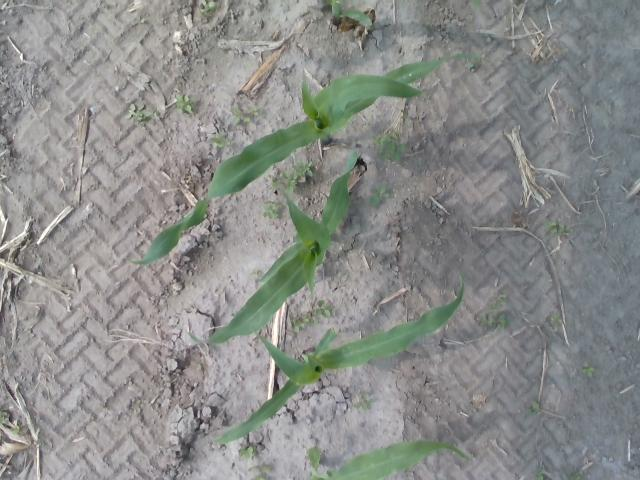Maize: (123, 54, 484, 267), (214, 268, 464, 444), (179, 150, 358, 346), (304, 437, 472, 480), (320, 0, 480, 26)
Weeds: (372, 131, 406, 163), (282, 161, 314, 194), (124, 103, 158, 124), (479, 306, 508, 330), (291, 313, 318, 332), (233, 106, 260, 125), (172, 93, 195, 114), (368, 184, 389, 204), (544, 220, 570, 236), (198, 0, 218, 20), (262, 200, 284, 218), (354, 391, 374, 410), (208, 132, 230, 148), (314, 300, 332, 318), (524, 400, 540, 416), (238, 445, 256, 458), (548, 314, 560, 332), (582, 362, 596, 376), (566, 470, 584, 480), (534, 467, 546, 480), (495, 293, 507, 305), (271, 177, 282, 188), (464, 60, 476, 70), (0, 410, 8, 424), (250, 268, 260, 278), (261, 464, 271, 472), (250, 475, 266, 480), (11, 426, 20, 434)
